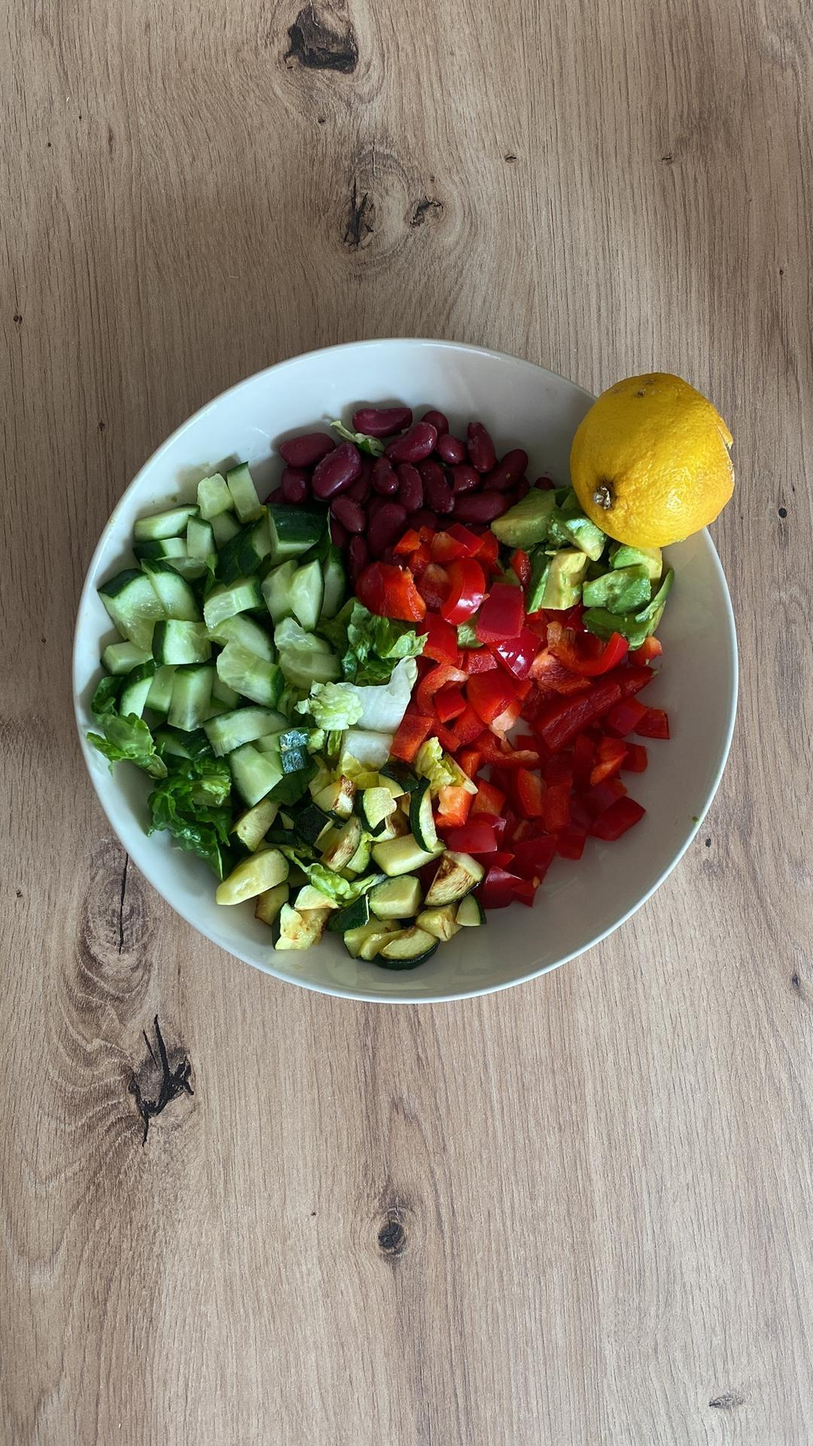bell pepper: (351, 555, 431, 619), (469, 574, 534, 639), (499, 829, 569, 885), (550, 632, 632, 676), (528, 694, 597, 745), (441, 555, 485, 628), (463, 658, 505, 733), (523, 650, 598, 689), (499, 763, 547, 822), (540, 810, 591, 862), (471, 732, 541, 768), (416, 609, 462, 663), (586, 801, 644, 843), (393, 707, 435, 763), (586, 734, 636, 781), (419, 523, 476, 563), (598, 697, 653, 737), (419, 670, 466, 715), (465, 774, 511, 815), (473, 868, 513, 908), (433, 787, 473, 827), (442, 822, 494, 848), (495, 875, 540, 901), (391, 526, 432, 553)
cucumber: (93, 571, 180, 645), (140, 562, 211, 627), (204, 707, 298, 755), (166, 671, 237, 729), (212, 653, 283, 707), (266, 506, 327, 561), (221, 520, 270, 587), (226, 746, 278, 807), (201, 571, 260, 624), (274, 613, 339, 661), (222, 464, 273, 522), (115, 653, 157, 721), (263, 729, 318, 780), (290, 555, 325, 633), (152, 623, 218, 664), (282, 653, 346, 689), (131, 505, 196, 537), (190, 477, 240, 514), (186, 519, 217, 557), (129, 542, 192, 560)
lettuce: (157, 746, 231, 885), (83, 681, 172, 783), (318, 657, 422, 738), (332, 601, 426, 688), (329, 724, 413, 783), (328, 419, 391, 462)
vegetable marrow: (212, 845, 288, 912), (375, 832, 452, 879), (266, 902, 323, 955), (415, 854, 480, 900), (226, 803, 288, 851), (350, 779, 407, 825), (372, 873, 423, 919), (382, 934, 445, 971), (412, 901, 475, 937), (312, 819, 357, 869), (292, 803, 338, 845), (340, 935, 410, 951)
